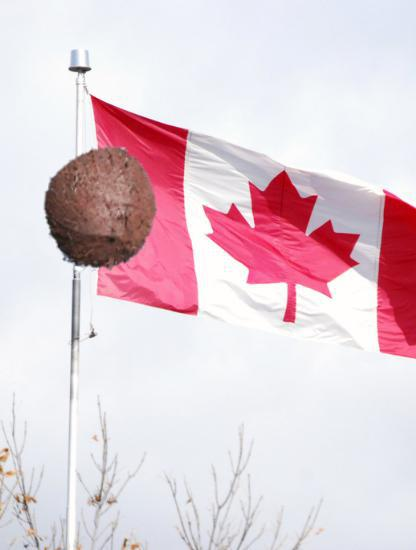Cocos: (33, 144, 167, 278)
